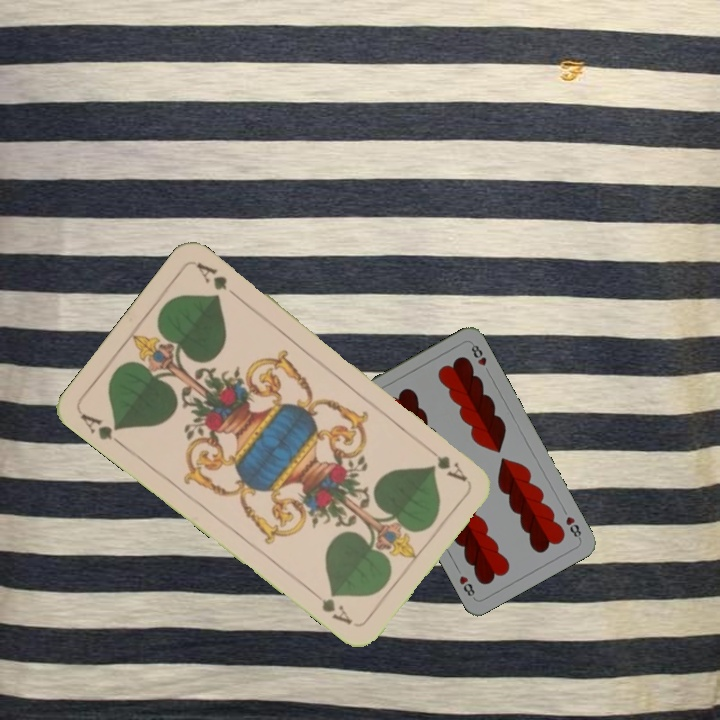GA: (420, 441, 470, 485), (76, 409, 128, 450)
H8: (562, 512, 584, 542)
